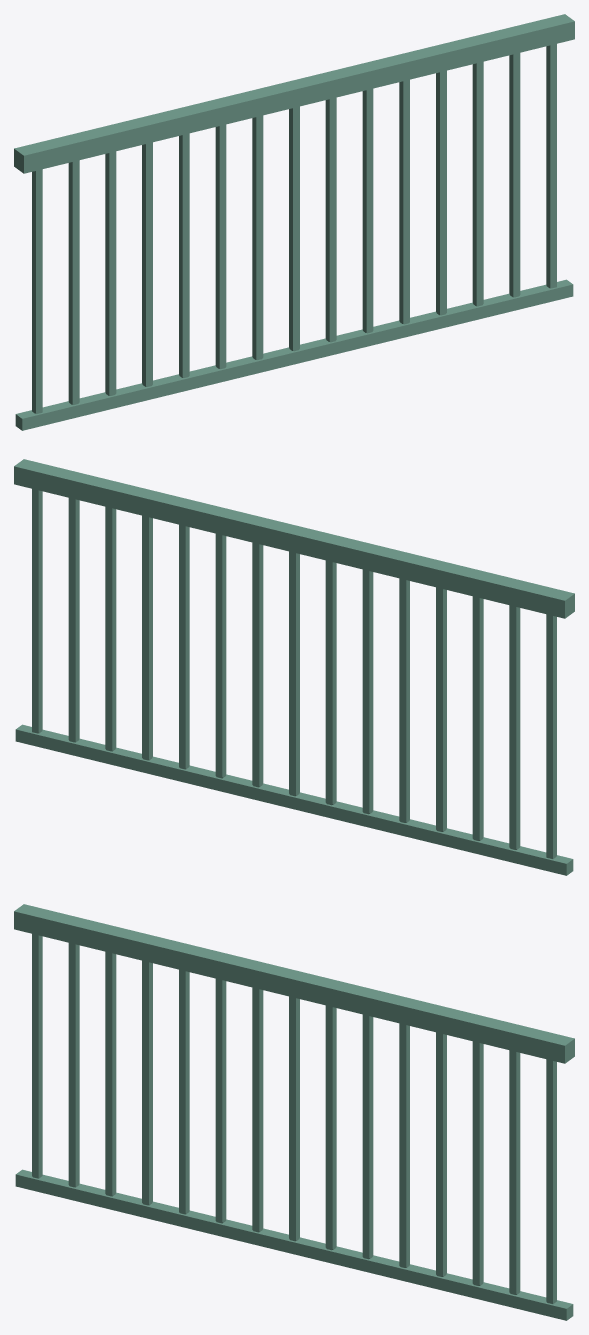
The model's file is gallery_rail_end.glb.
3 renders of one model, top to bottom at view 1: azimuth 30°, elevation 25°; view 2: azimuth 150°, elevation 25°; view 3: azimuth 330°, elevation 25°, orthographic.
Visible parts, largest first — view 1: gallery_rail_end_post; view 2: gallery_rail_end_post; view 3: gallery_rail_end_post.
Boxes of the visible parts, x1,y1,x2,y2 form: gallery_rail_end_post: (14, 14, 574, 430); gallery_rail_end_post: (14, 459, 574, 875); gallery_rail_end_post: (14, 904, 574, 1320).
Bounding box in the file's own units: 1.92 × 0.92 × 0.06.
